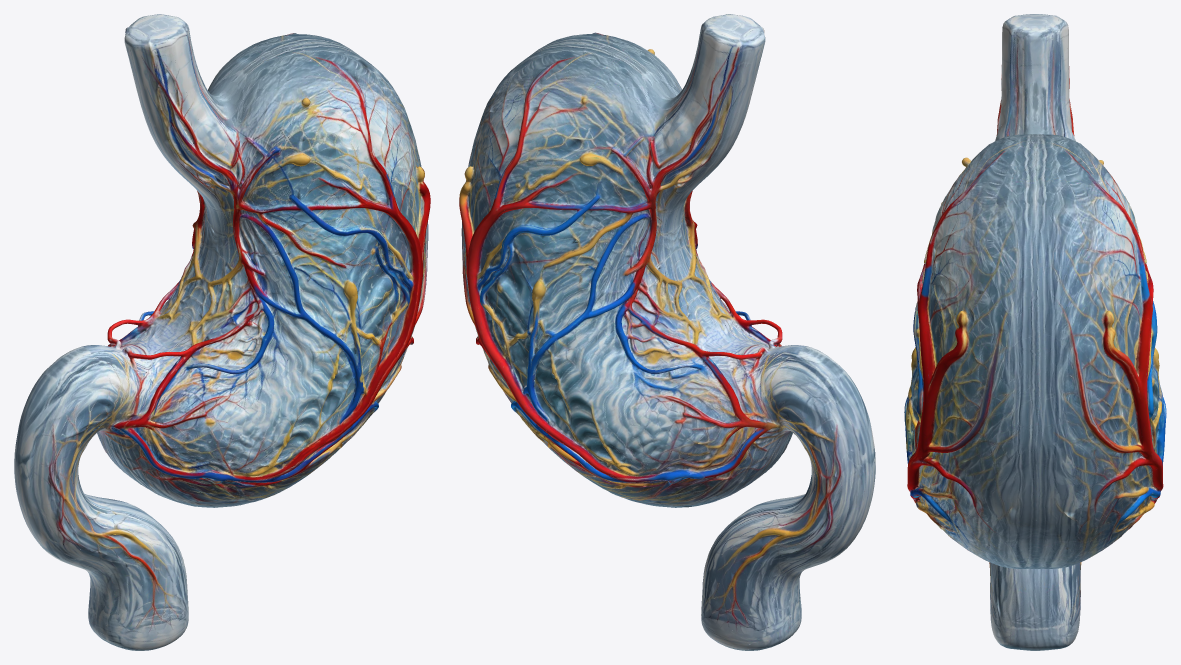
File: stomach.glb
3 views of the same model, side by side, from view 1: azimuth 30°, elevation 25°; view 2: azimuth 150°, elevation 25°; view 3: azimuth 270°, elevation 25° (orthographic). The views are drawn at different scales.
Visible parts, largest first — view 1: Mesh_0.002; view 2: Mesh_0.002; view 3: Mesh_0.002.
Part boxes in pixels (bbox=[...]): Mesh_0.002: bbox=[14, 14, 430, 650]; Mesh_0.002: bbox=[459, 14, 875, 650]; Mesh_0.002: bbox=[904, 14, 1166, 650].
Bounding box in the file's own units: 1.27 × 1.9 × 0.7146.
Materials: 1 (1 with a texture image).
